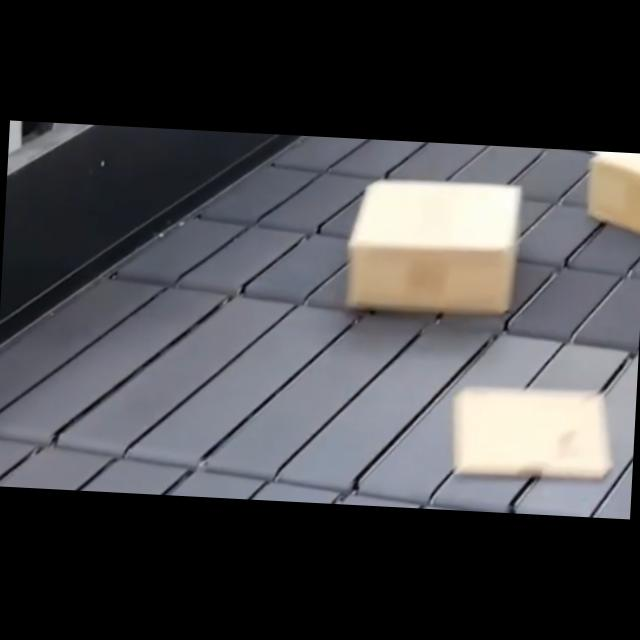box: (348, 179, 520, 315), (587, 151, 640, 235)
mailer: (450, 384, 614, 484)
